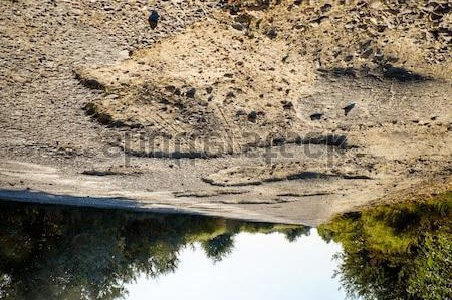pothole: (68, 0, 314, 162), (200, 156, 381, 190), (213, 185, 293, 206), (171, 187, 249, 200), (78, 164, 145, 179)
